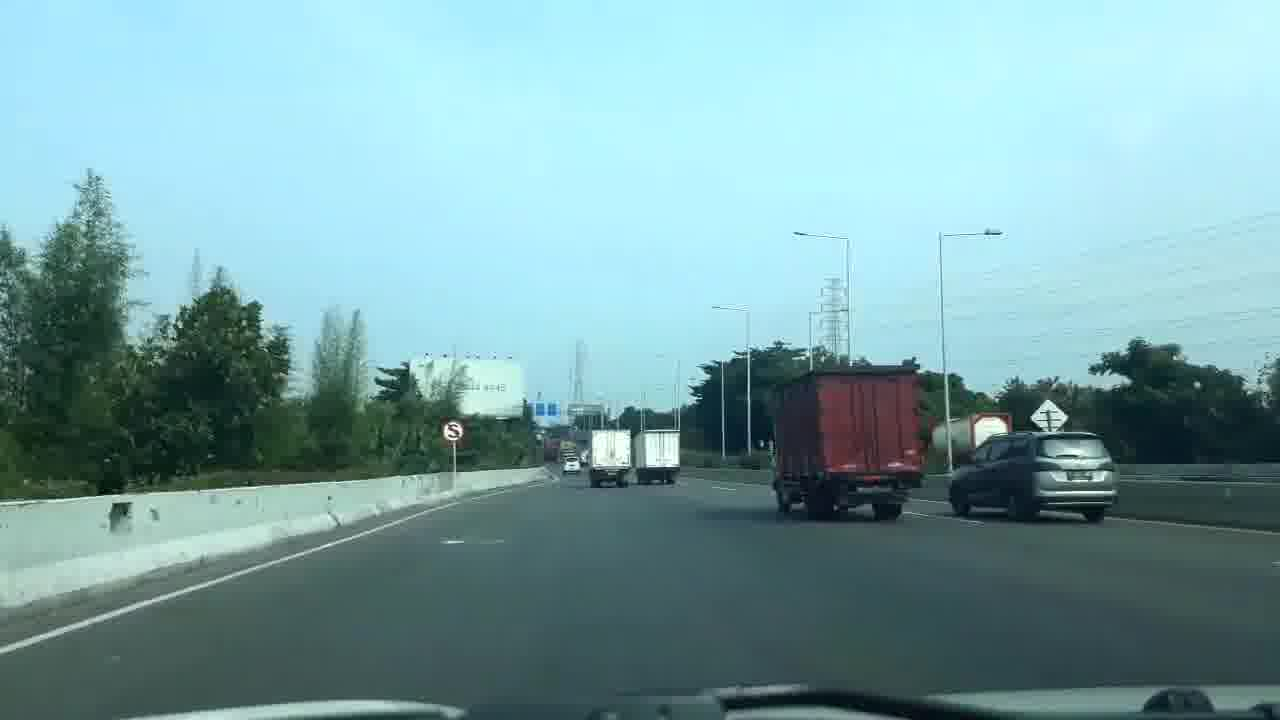plate_positive: (856, 487, 895, 495), (1067, 470, 1093, 480)
